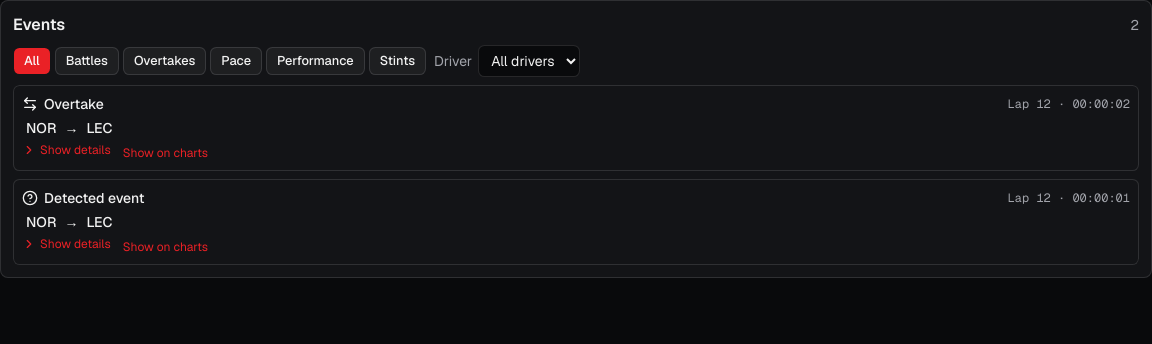
EventFeed › renders unknown types and malformed evidence without crashing
The width and height of the screenshot is (1152, 344).
Expected: the number of list items is 2, [13,85,1139,171]; [13,179,1139,265]
Expected: the text "Detected event" is shown, [22,188,144,208]
Step 1. Click the button "Show details" below "Detected event" → (66, 244), box [22,236,111,252]
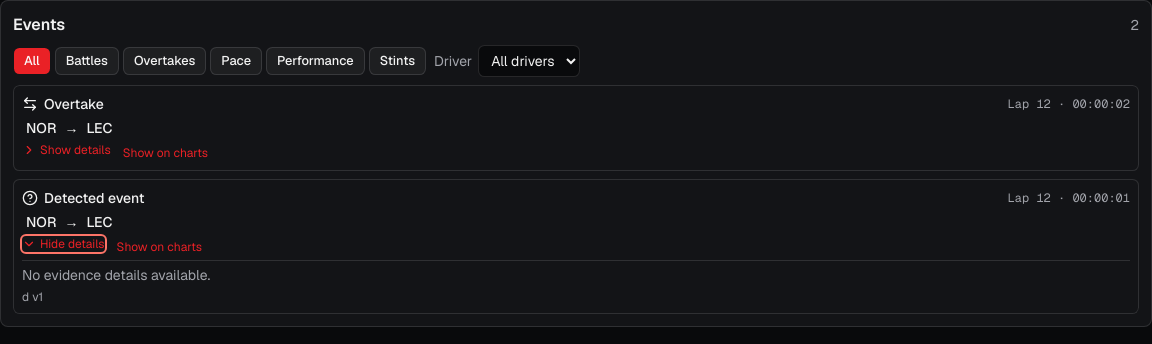
Expected: the text "No evidence details available." is shown, [22,266,210,284]
